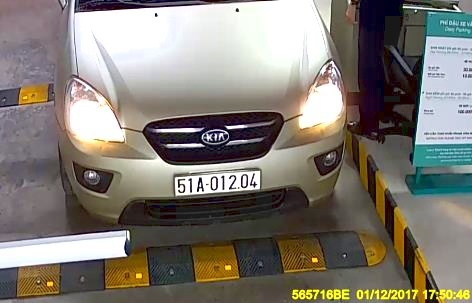plate: (169, 167, 262, 196)
